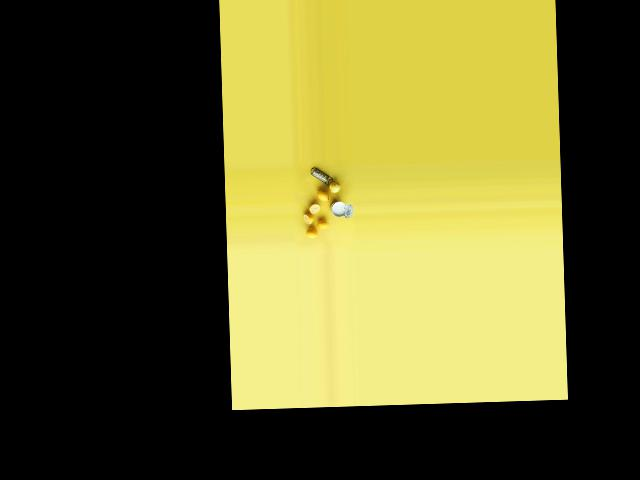lemon: (327, 182, 341, 195)
